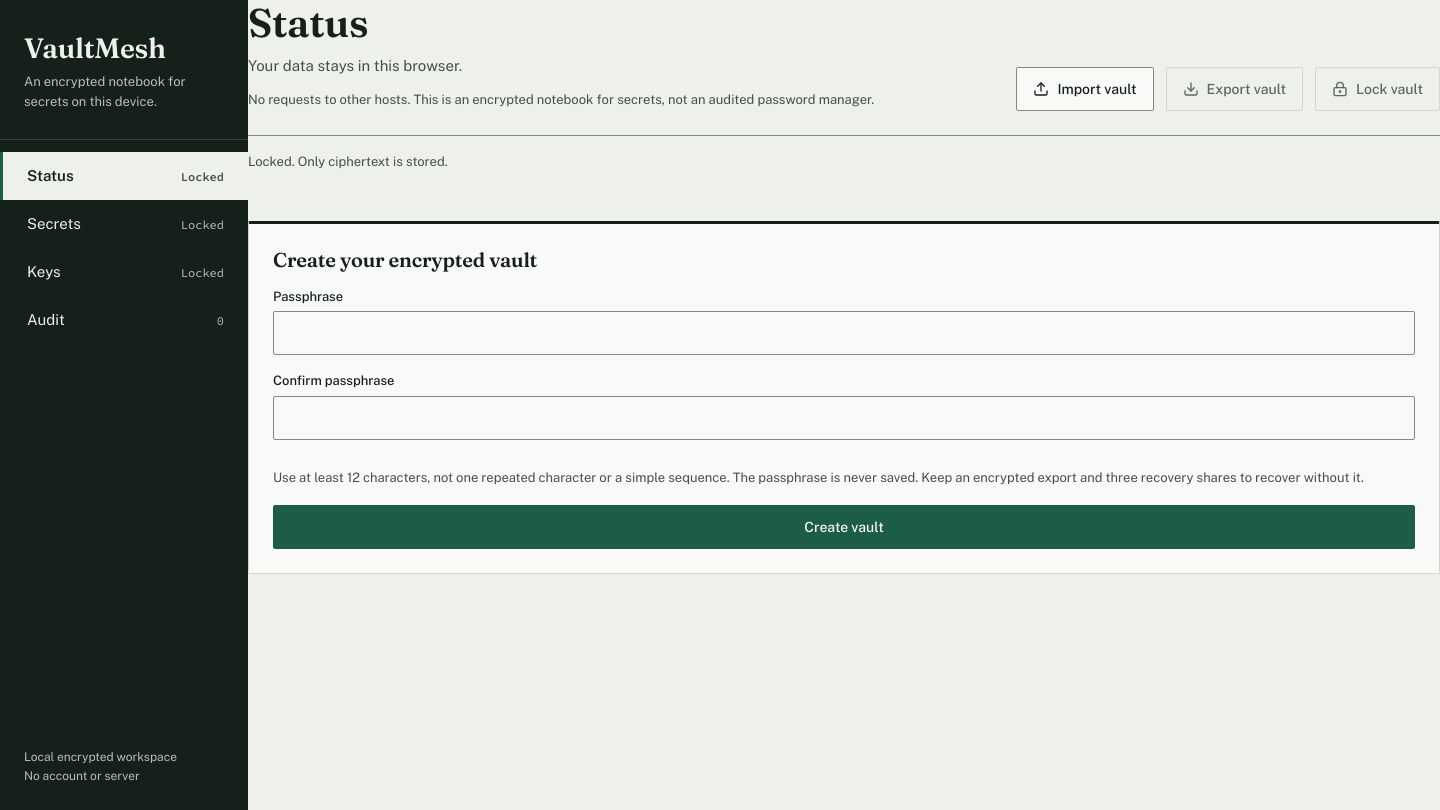
Scenario: local encrypted notebook › shows no leftover key version, key count or lease labels in local mode
Type "synthetic page passphrase" into the password field labelled "Passphrase".
click(844, 333); type("synthetic page passphrase")  # box [273,311,1415,355]
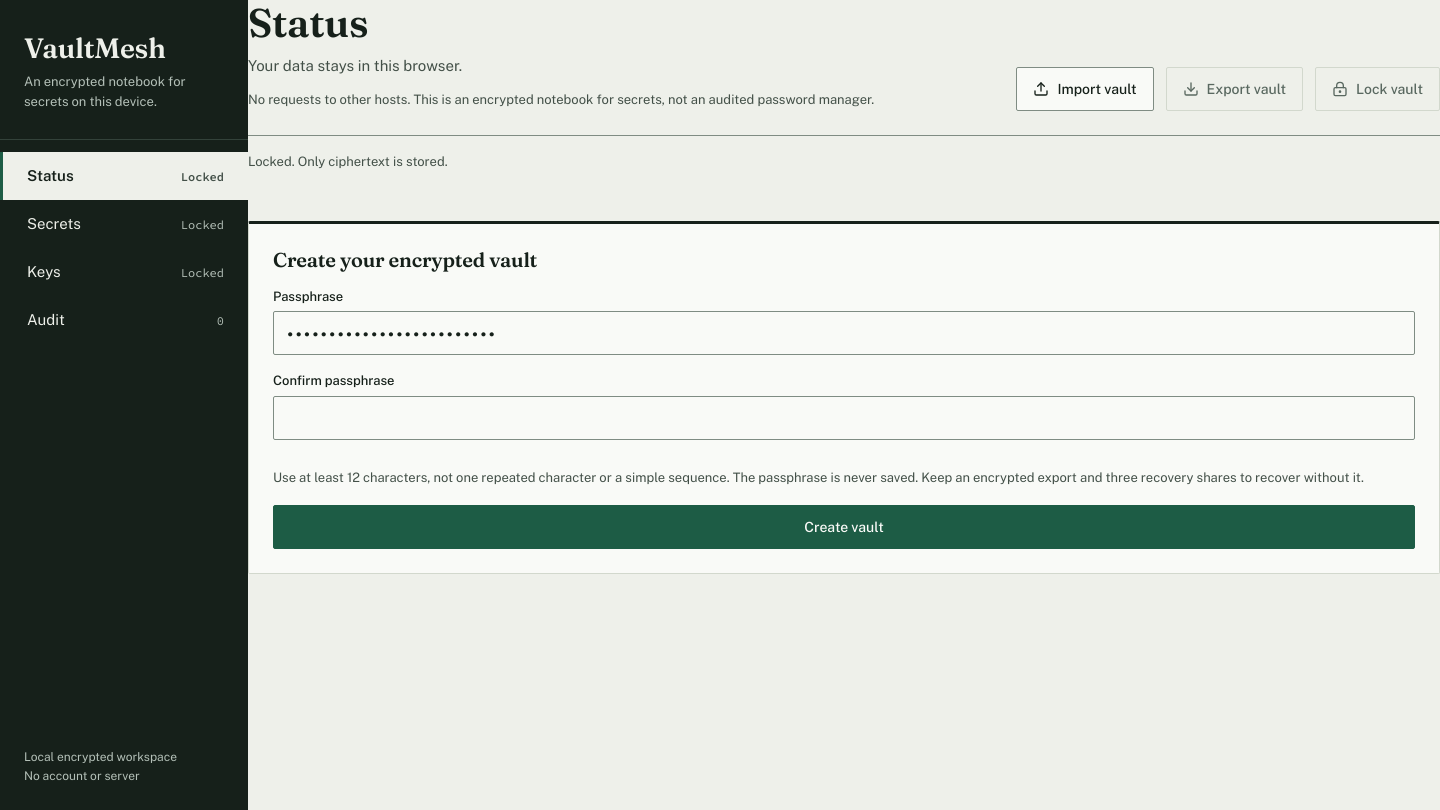
Type "synthetic page passphrase" into the password field labelled "Confirm passphrase".
click(844, 418); type("synthetic page passphrase")  # box [273,396,1415,440]
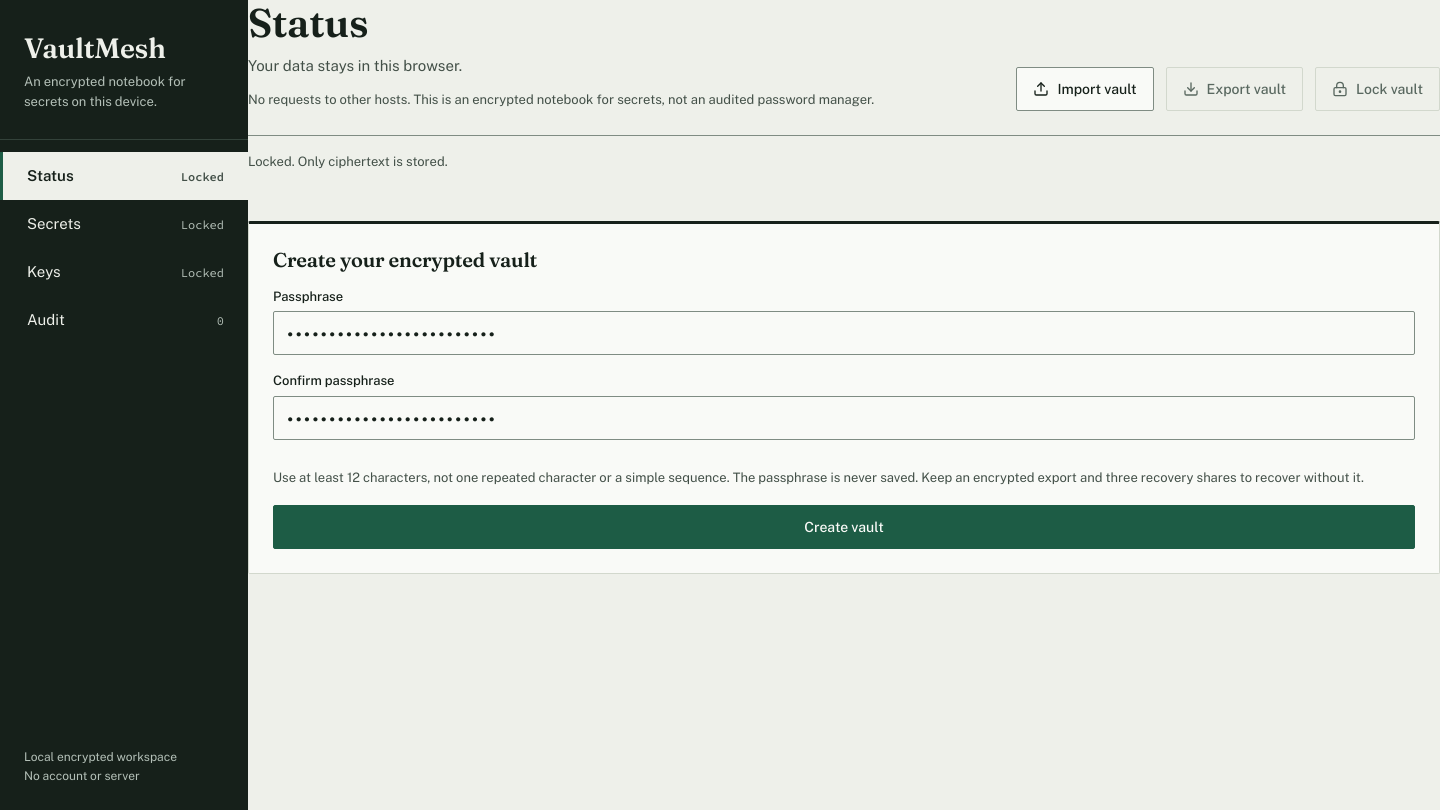
Click the button "Create vault".
click(844, 527)  # box [273,505,1415,549]
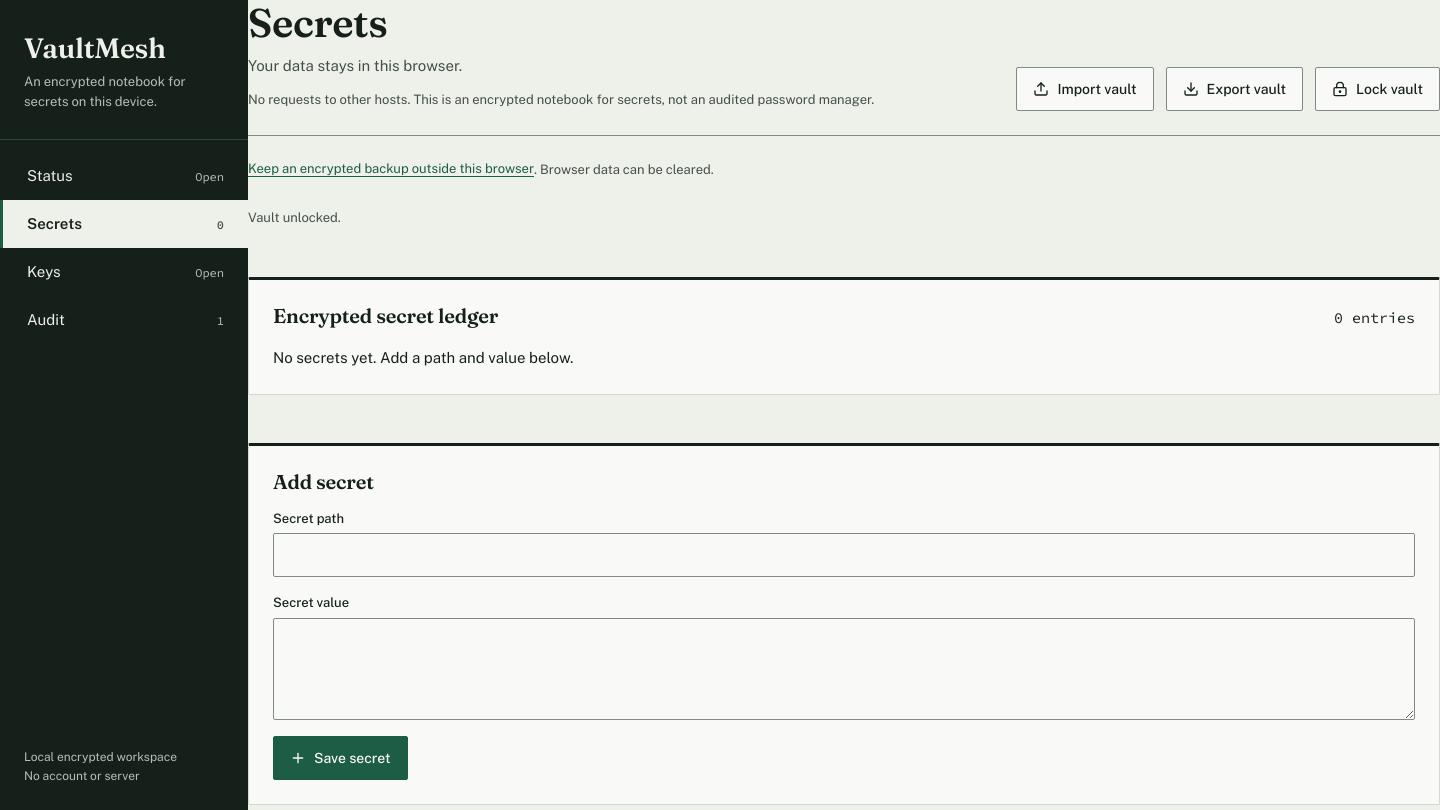
expect the text "Vault unlocked." is shown: met, box [248,210,341,225]
Type "synthetic/path" into the field labelled "Secret path".
click(844, 555); type("synthetic/path")  # box [273,533,1415,577]
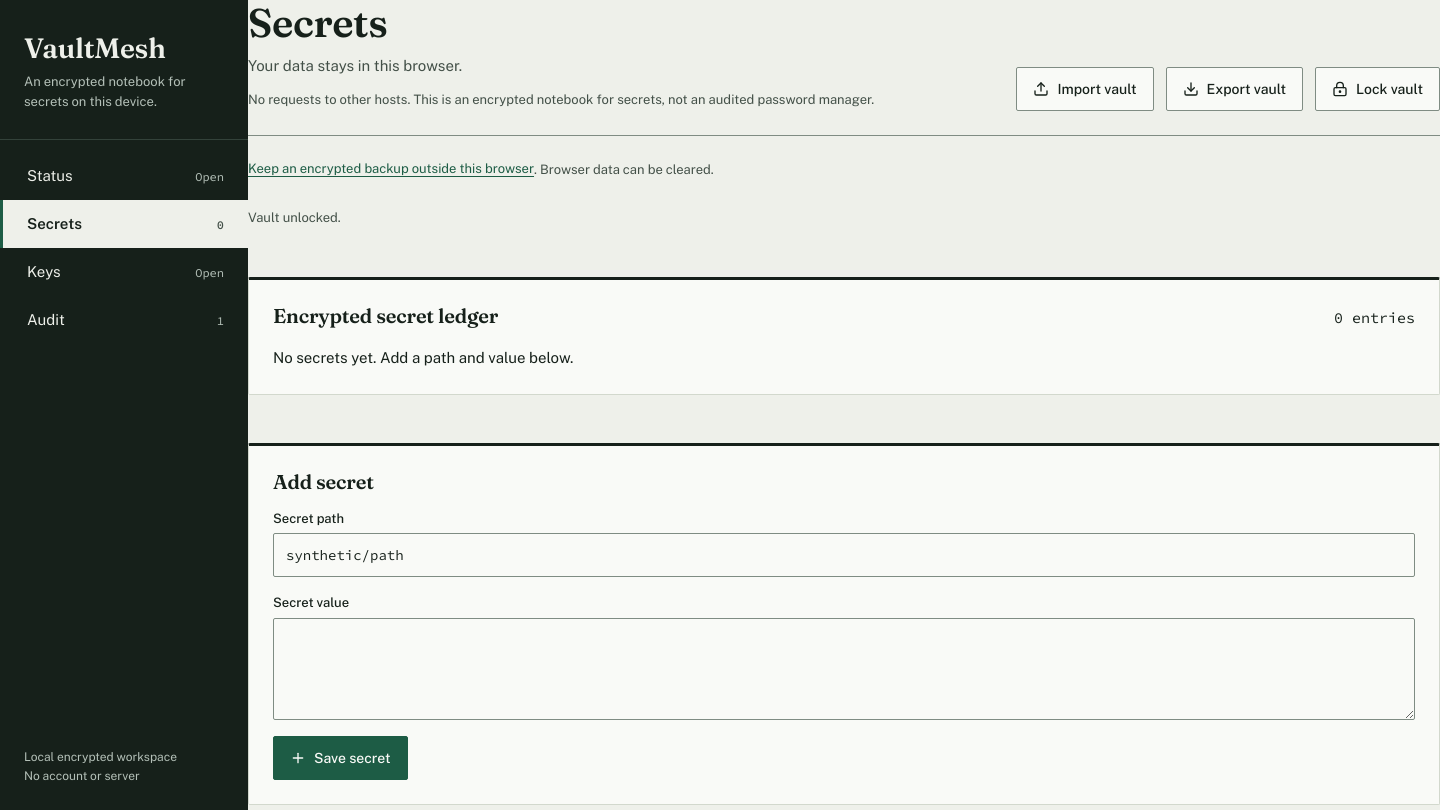
Type "synthetic plaintext" into the text box labelled "Secret value".
click(844, 669); type("synthetic plaintext")  # box [273,618,1415,720]
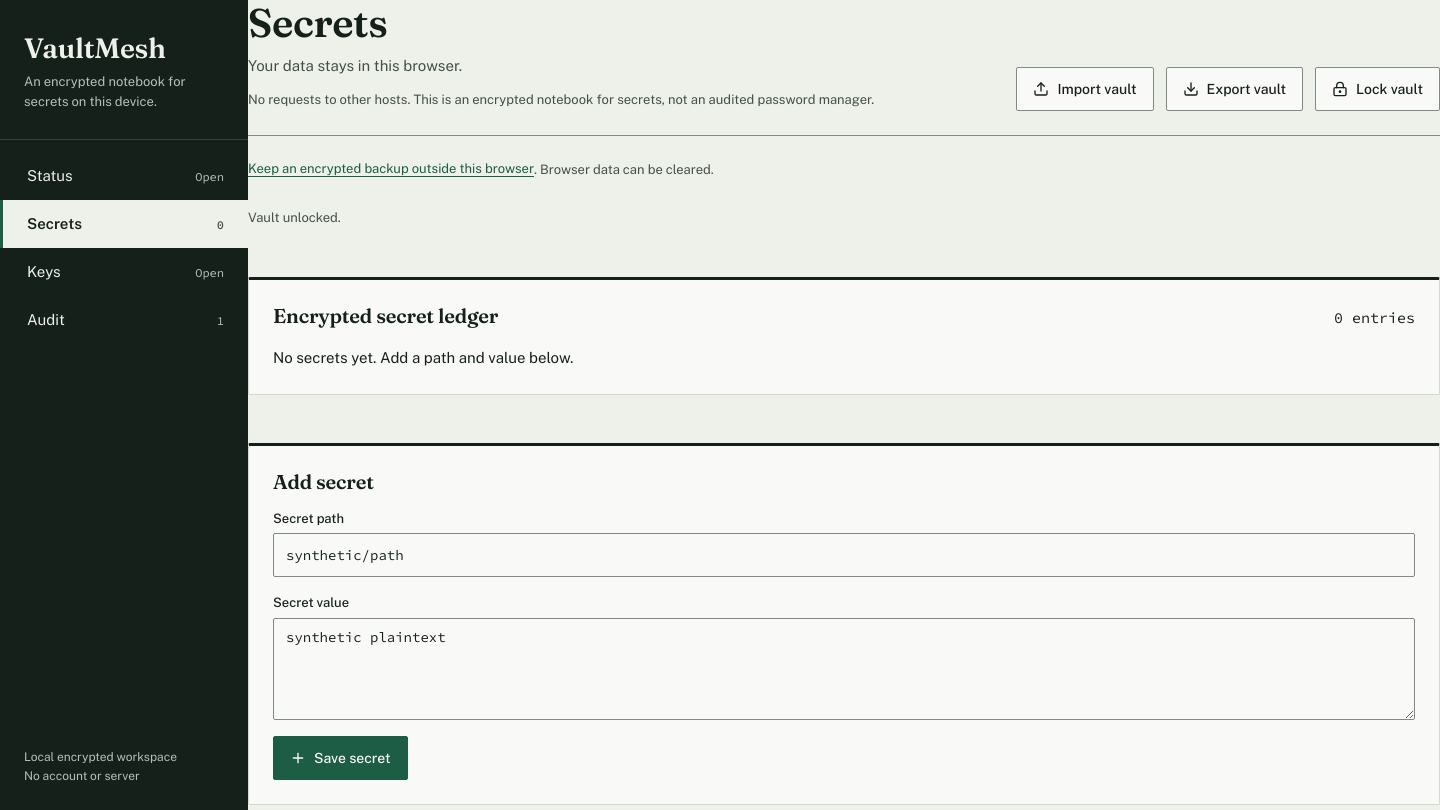
Click the button "Save secret".
click(340, 758)  # box [273,736,408,780]
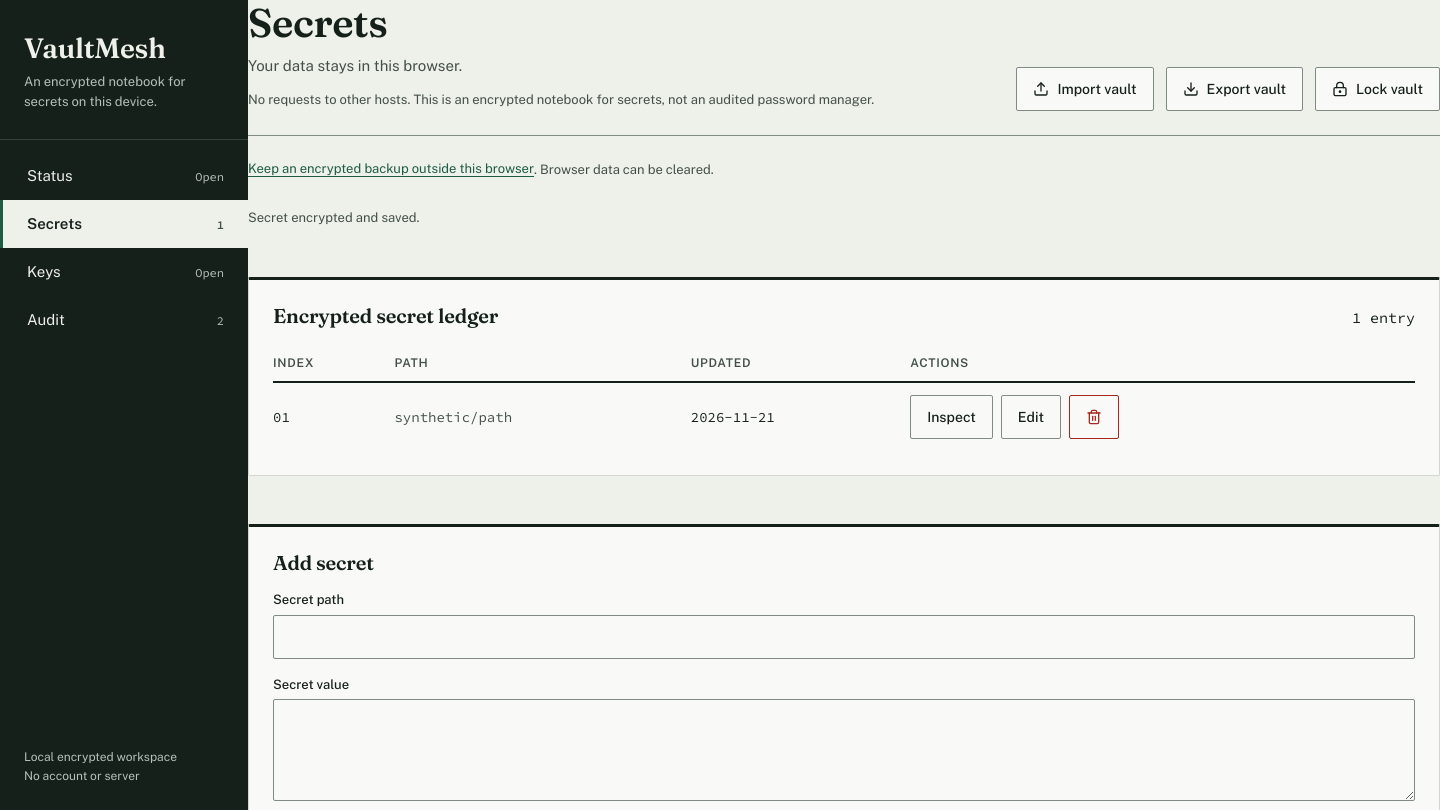
expect the button "Keys Open" is shown: met, box [0,248,248,296]
expect the text "Secret encrypted and saved." is shown: met, box [248,210,420,225]
expect the column headings read "Index", "Path", "Updated", "Actions", in this order: met, box [273,346,394,382]; [394,346,691,382]; [691,346,910,382]; [910,346,1415,382]
